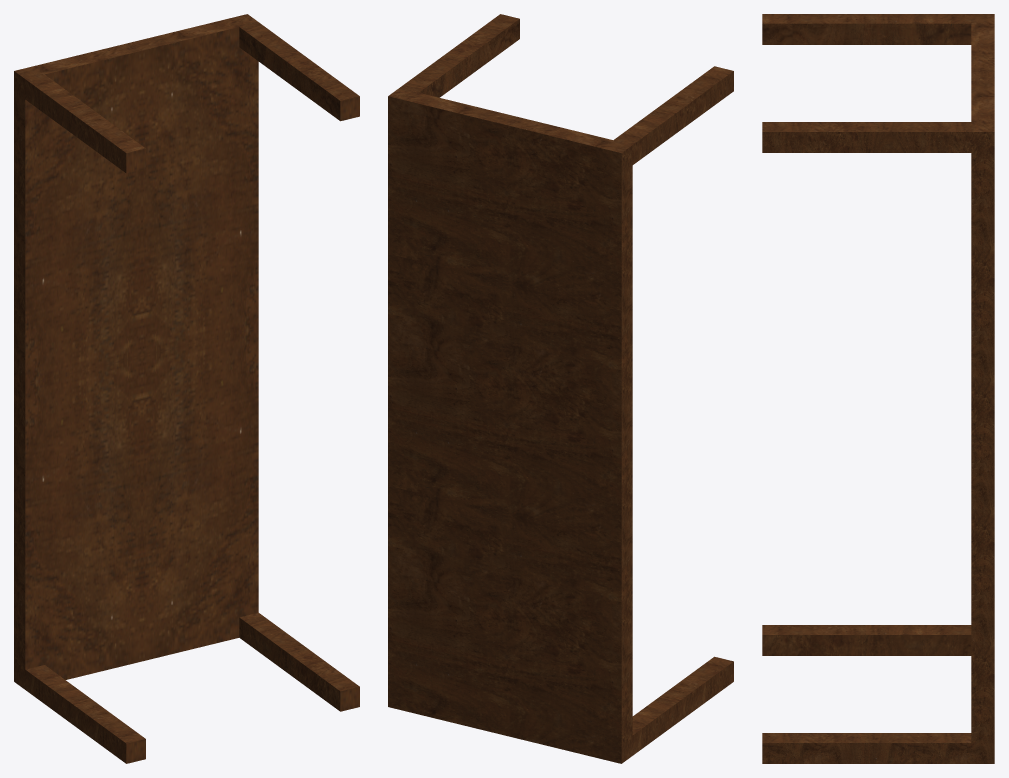
File: Table300x100.fbx
The picture shows the model from 3 angles, left to right: view 1: azimuth 30°, elevation 25°; view 2: azimuth 150°, elevation 25°; view 3: azimuth 270°, elevation 25°; orthographic projection. The views are drawn at different scales.
Parts seen in each view (by area): view 1: table300x100; view 2: table300x100; view 3: table300x100.
Part boxes in pixels (<box>): table300x100: <box>14,14,359,763</box>; table300x100: <box>388,14,733,763</box>; table300x100: <box>762,14,994,763</box>.
Bounding box in the file's own units: 12000 × 30000 × 10000.
Materials: 1 (1 with a texture image).
